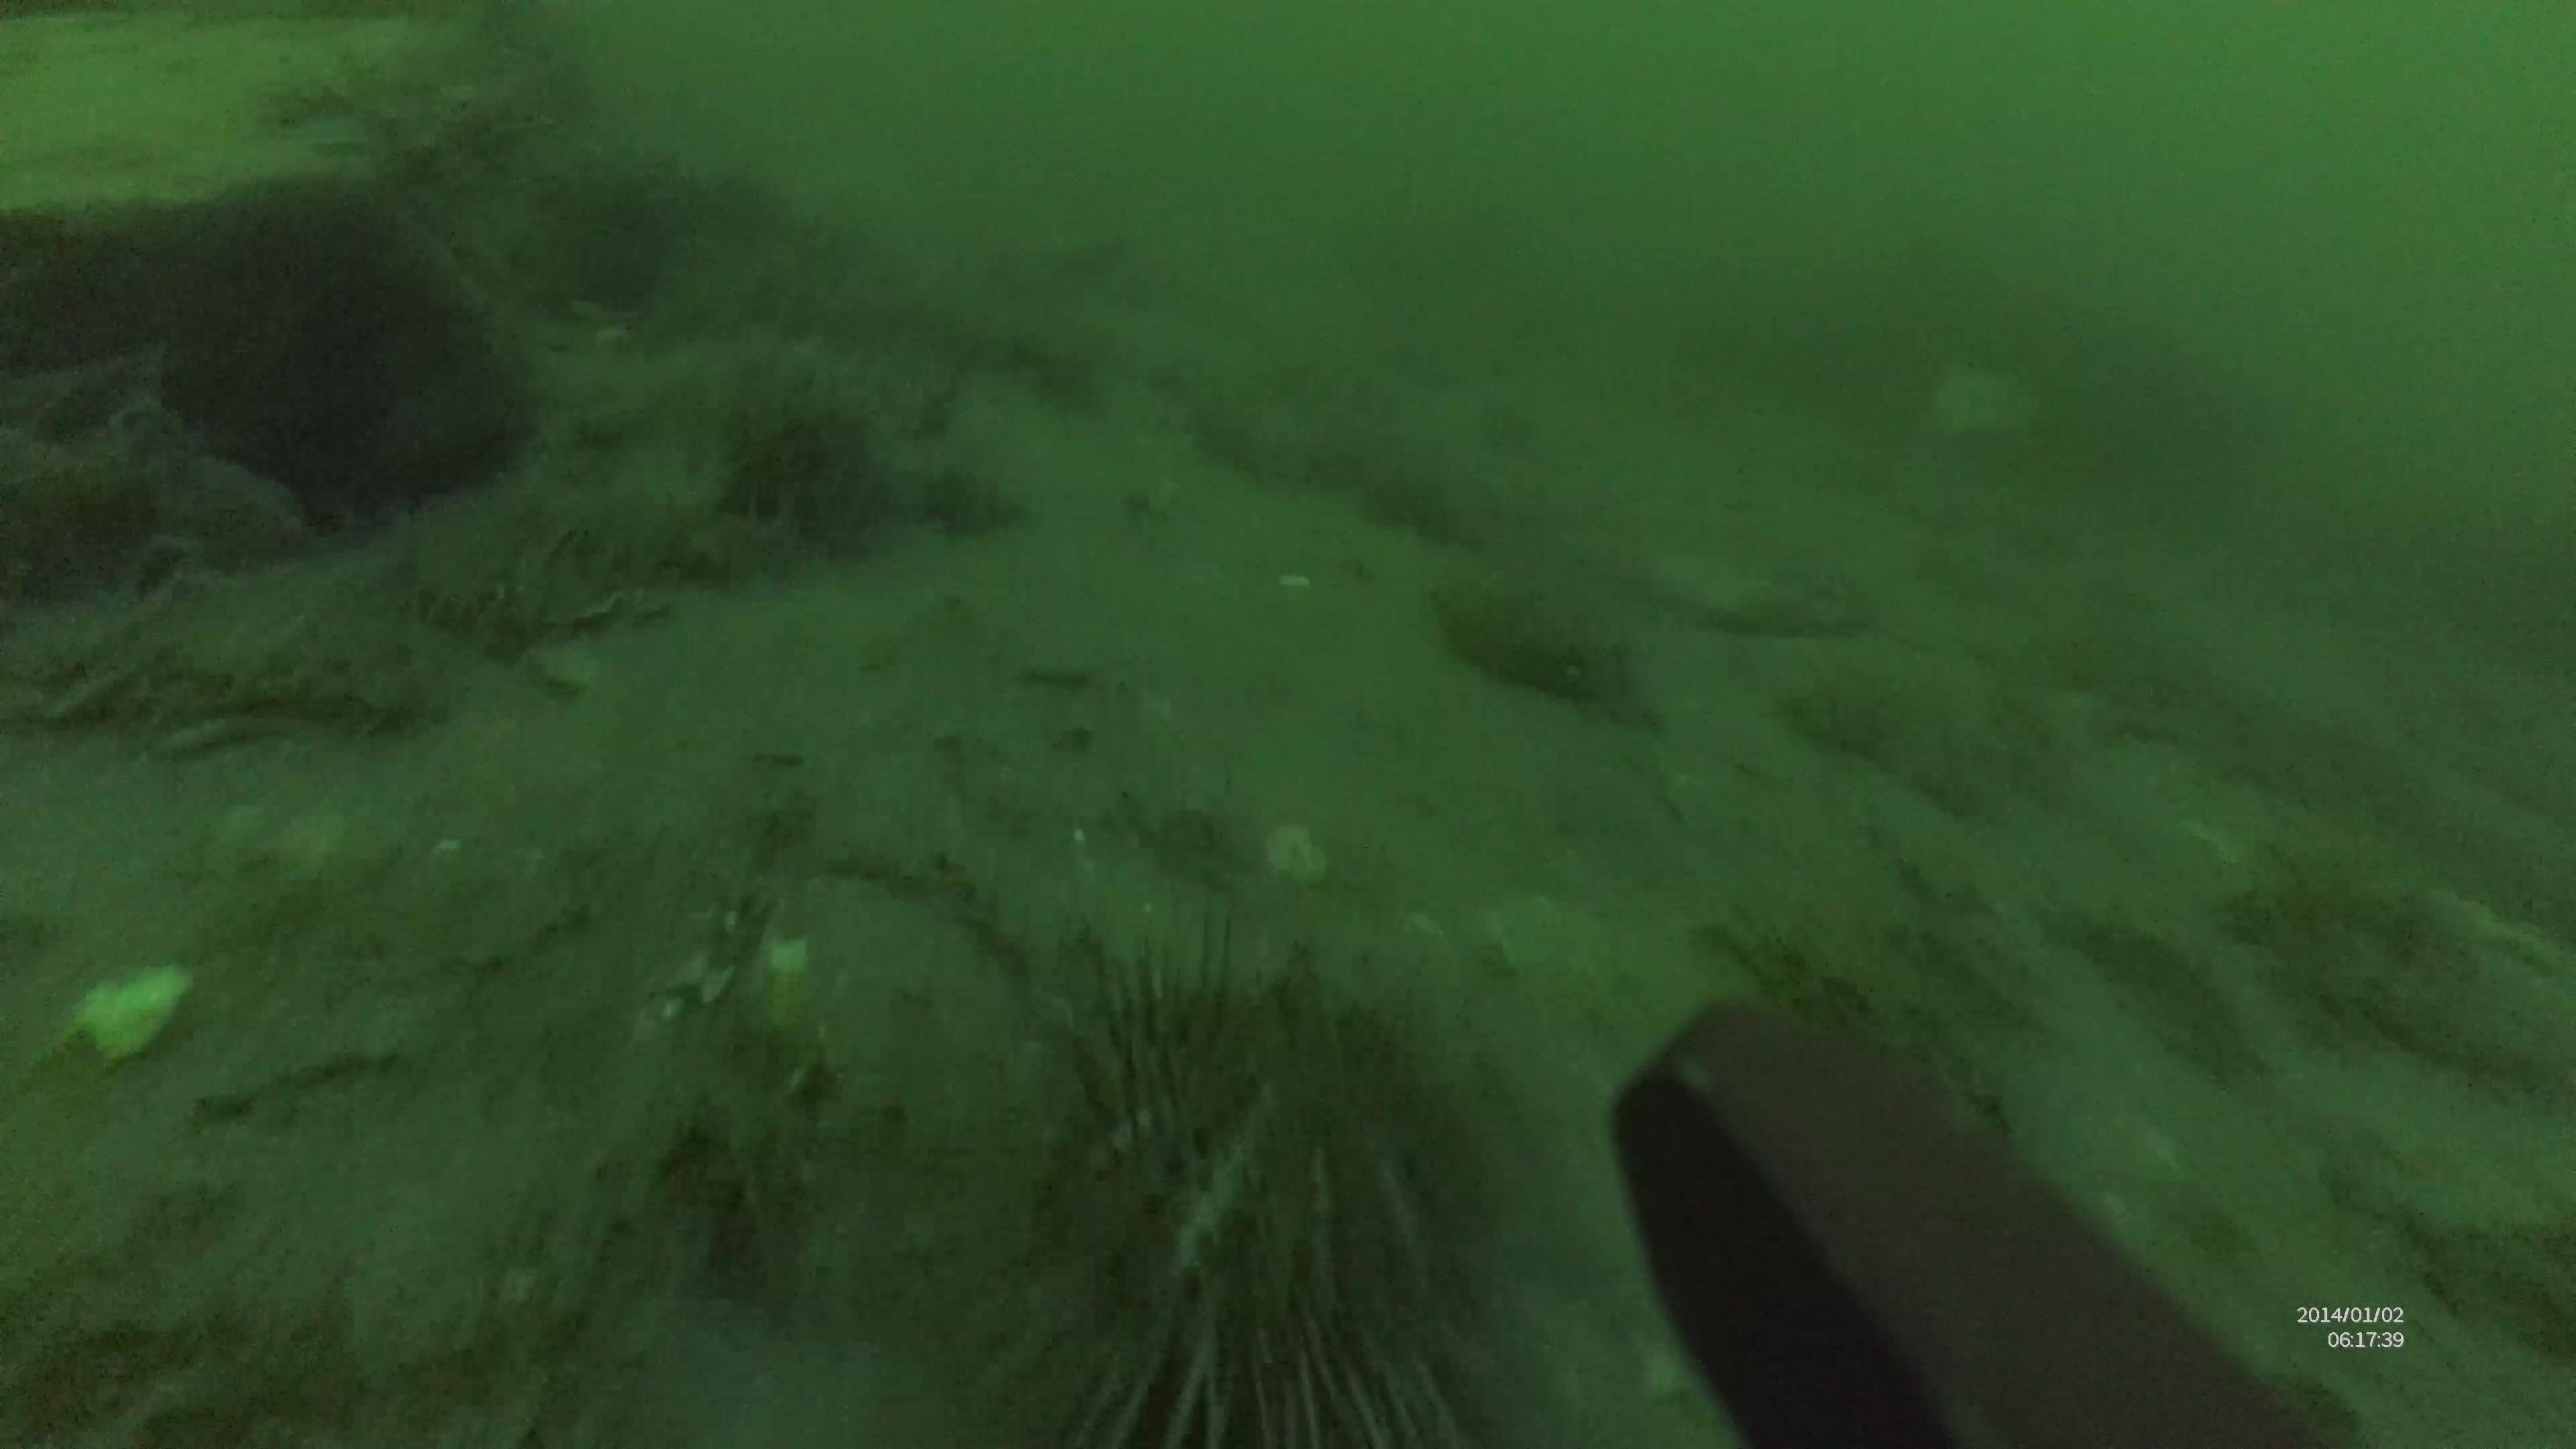echinus: (985, 936, 1493, 1449)
holothurian: (41, 625, 449, 747), (384, 550, 685, 655), (550, 488, 833, 586)
